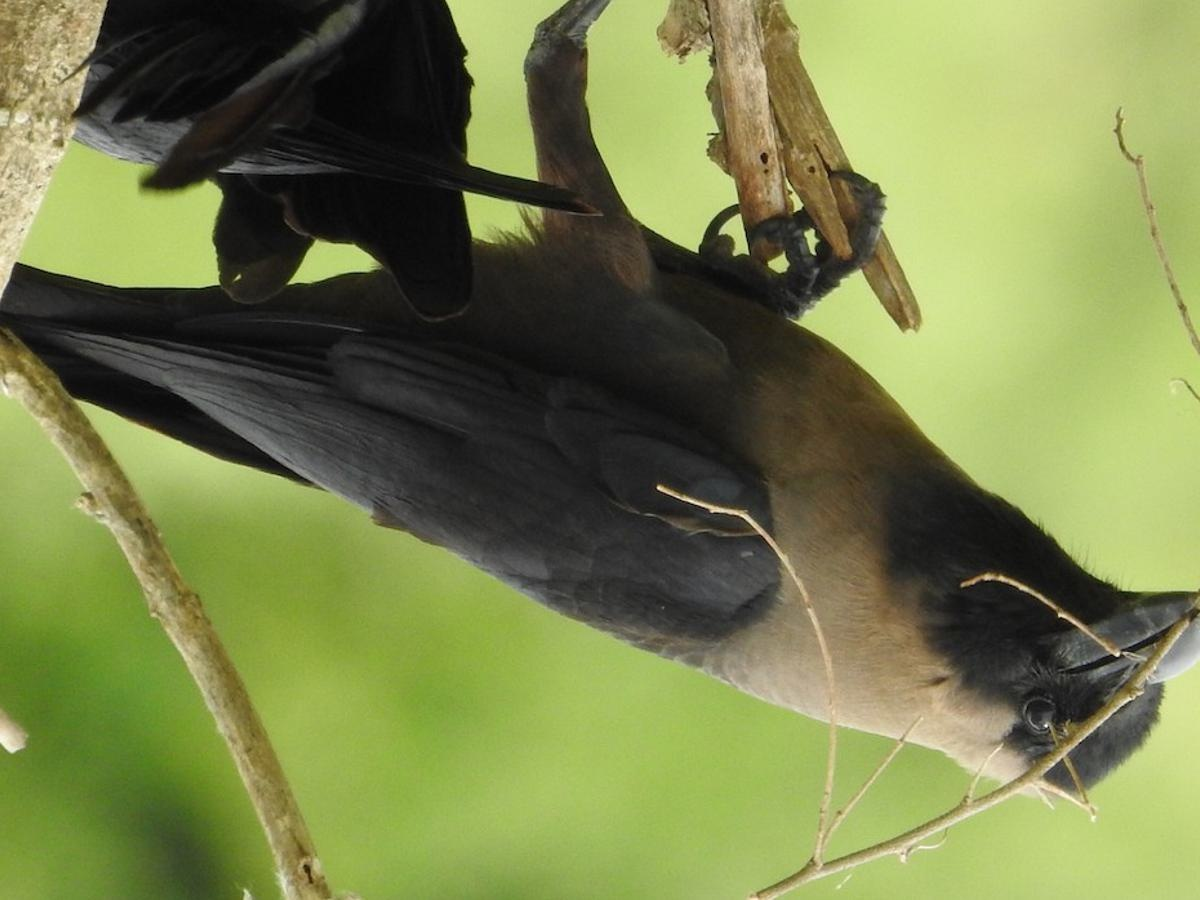crow: (1, 23, 1197, 811)
